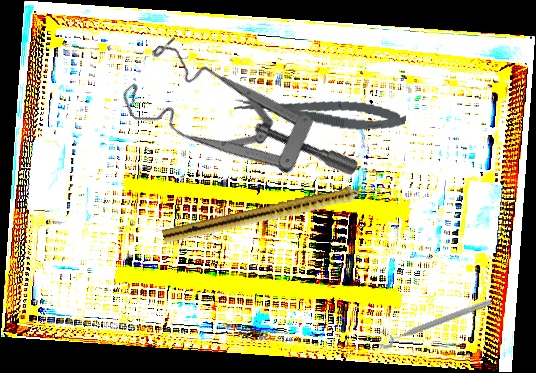Fixation Ring: (374, 289, 494, 351)
Handpiece: (161, 179, 384, 248)
Micro Scissor: (232, 86, 408, 137)
Speculum: (109, 2, 362, 257)
